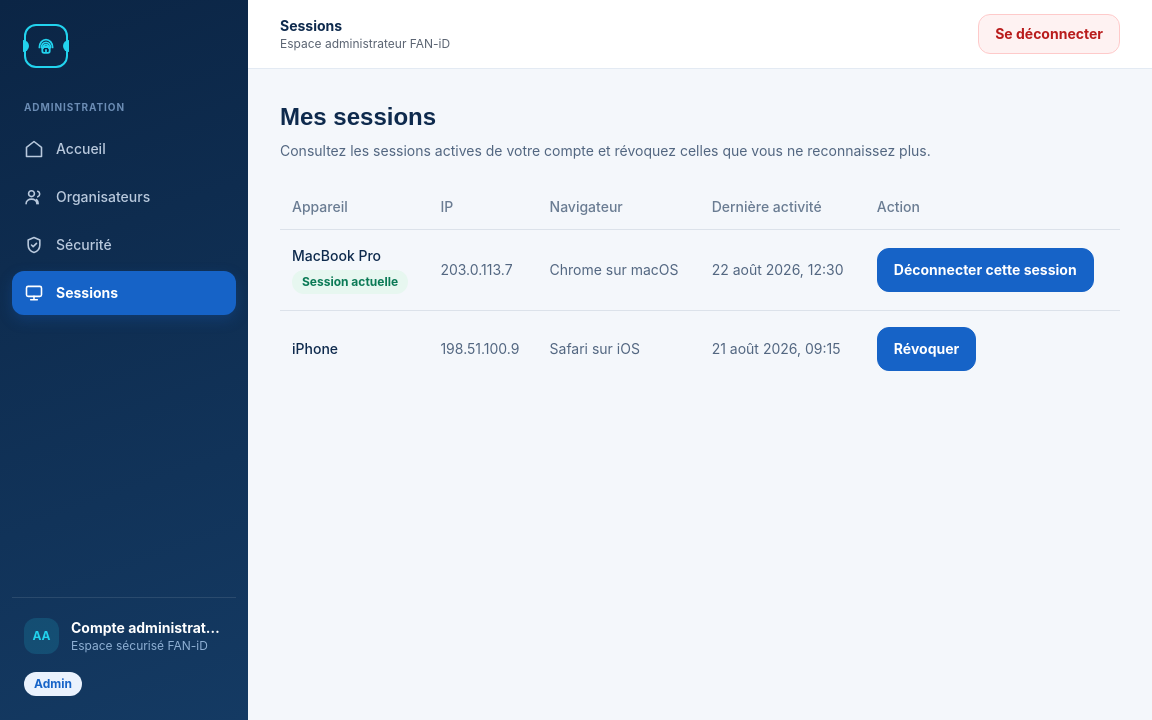
SessionsPage › révoque une session distante puis recharge la liste sans effacer l’authentification
This screenshot has width=1152, height=720.
Check: the text "iPhone" is shown, box x1=292 y1=340 x2=338 y2=357
Click the button "Révoquer". click: click(926, 349)
box: x1=877 y1=327 x2=976 y2=371
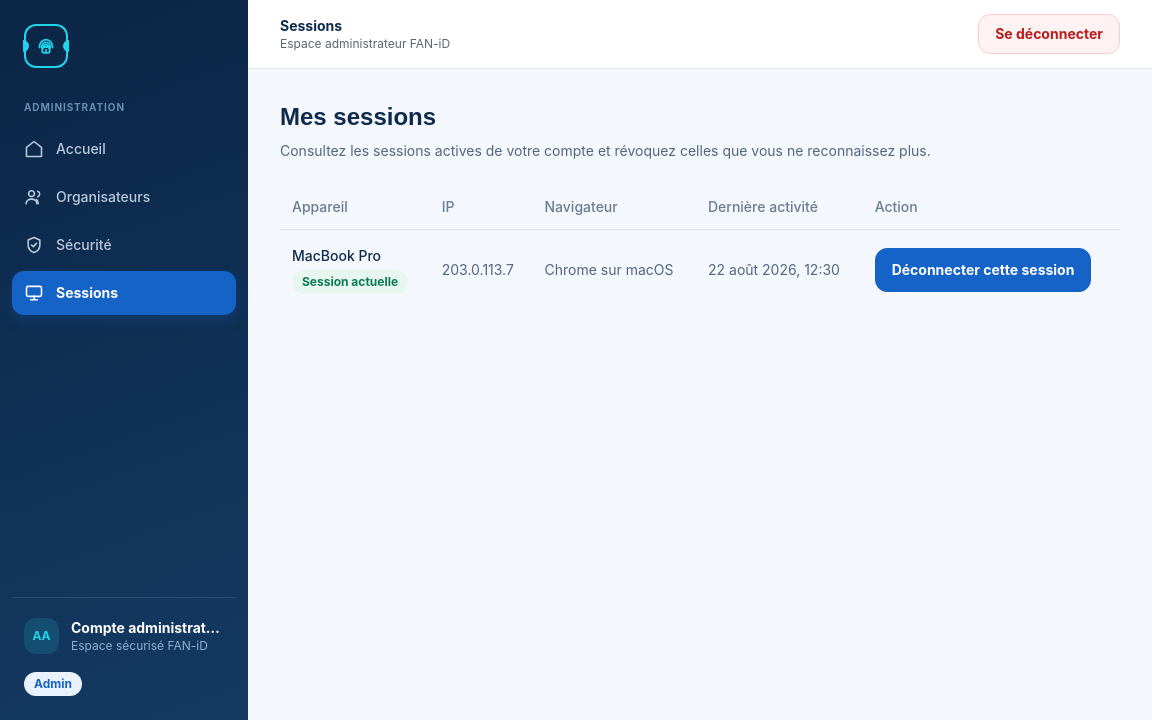
Check: the heading "Mes sessions" is shown, box x1=280 y1=103 x2=436 y2=130
Check: the text "iPhone" is gone
